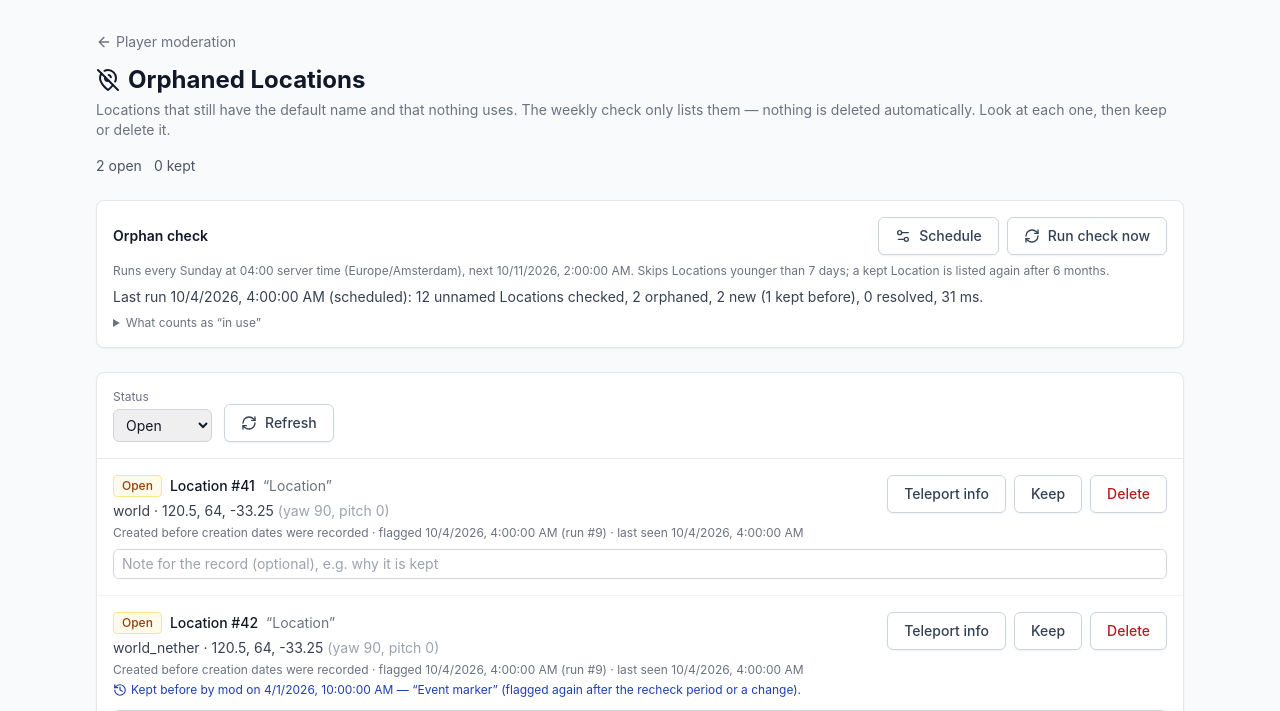
Test: LocationRetentionPage › shows both teleport commands for a row
Expected: the text "Location #42" is shown, [170,613,258,633]
Click the button "Teleport info" in the row of "42". click: [947, 631]
box: [887,612,1006,650]
(page scrolled)
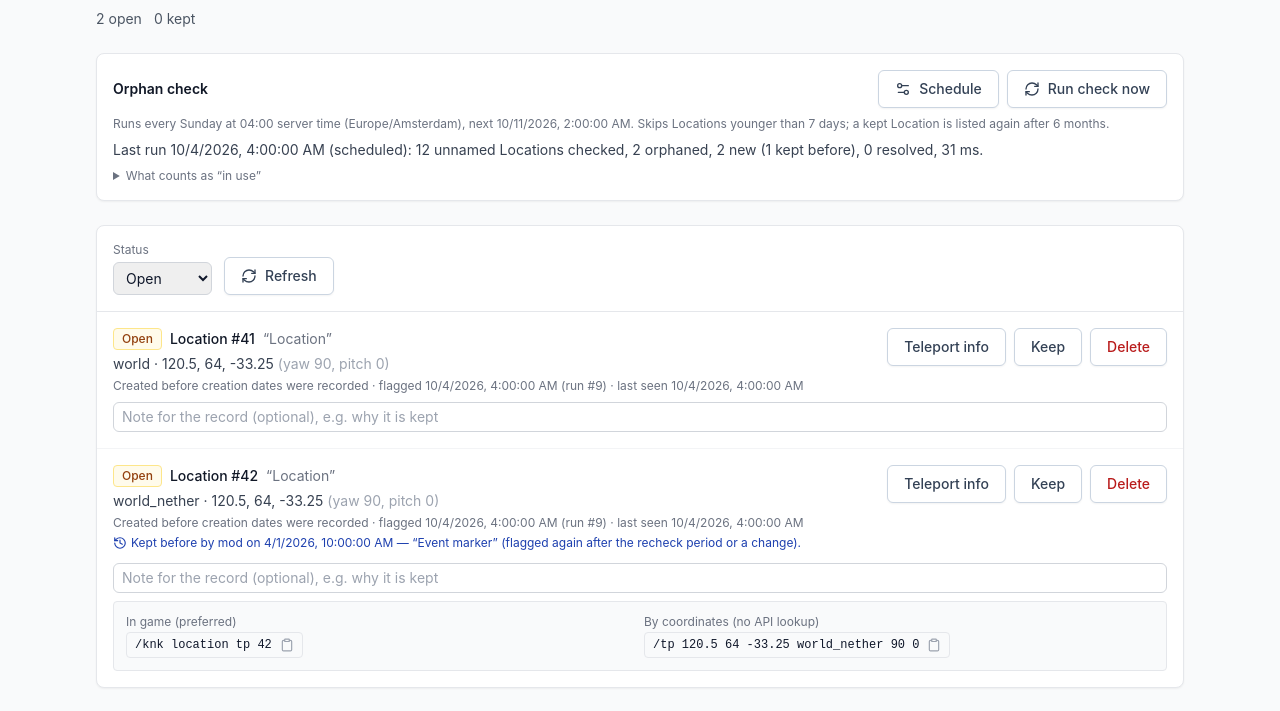
Now the text "/knk location tp 42" is shown, box [135,637,272,653]
Now the text "/tp 120.5 64 -33.25 world_nether 90 0" is shown, box [653,637,920,653]
